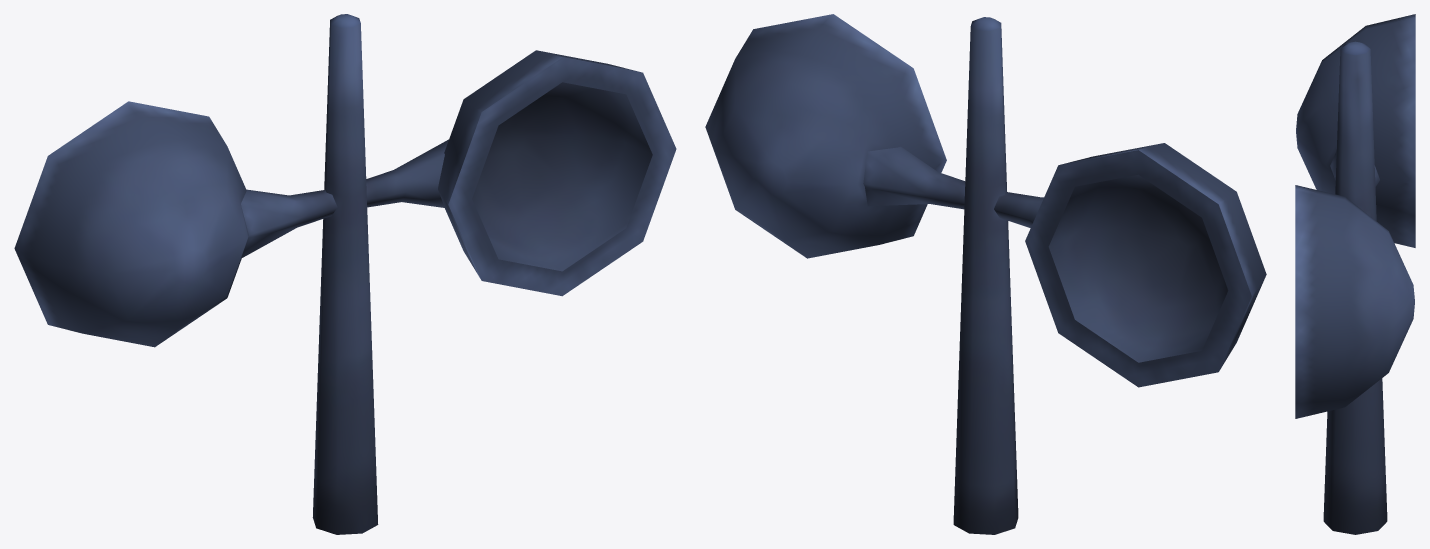
Rendered from vane.fbx.
The picture shows the model from 3 angles, left to right: view 1: azimuth 30°, elevation 25°; view 2: azimuth 150°, elevation 25°; view 3: azimuth 270°, elevation 25°; orthographic projection. The views are drawn at different scales.
Parts seen in each view (by area): view 1: lighthouse.vane; view 2: lighthouse.vane; view 3: lighthouse.vane.
Part boxes in pixels (x1=…): lighthouse.vane: x1=14, y1=14, x2=676, y2=534; lighthouse.vane: x1=705, y1=14, x2=1266, y2=534; lighthouse.vane: x1=1295, y1=14, x2=1415, y2=534.
Bounding box in the file's own units: 43.09 × 7.92 × 34.67.
